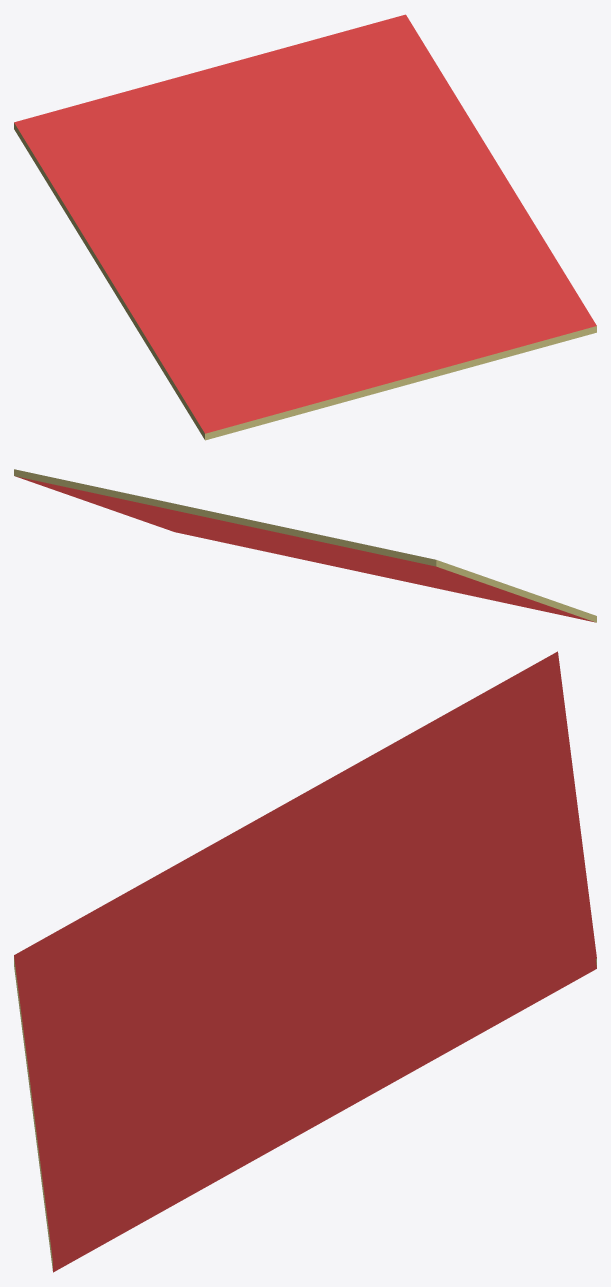
3 renders of one model, top to bottom at view 1: azimuth 30°, elevation 25°; view 2: azimuth 150°, elevation 25°; view 3: azimuth 270°, elevation 25°, orthographic. The views are drawn at different scales.
Size of the model in its own units: 6.55 by 5.05 by 2.89.
